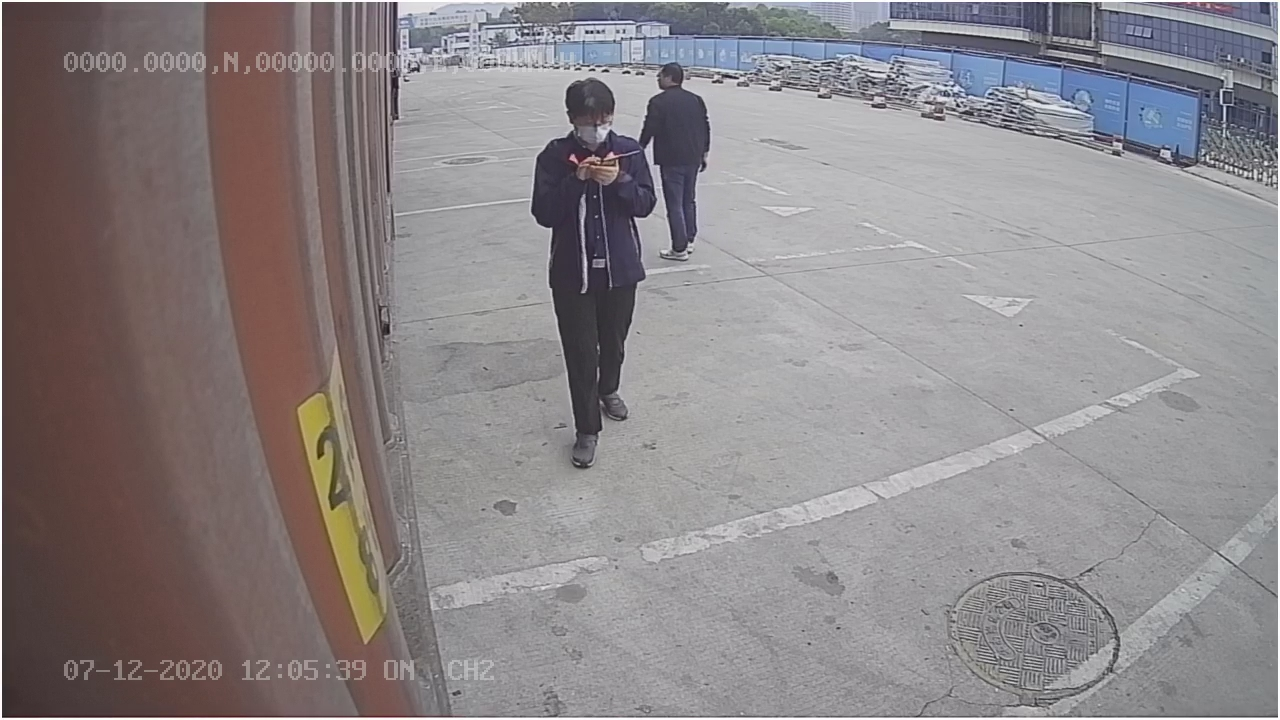person: (527, 79, 656, 467)
